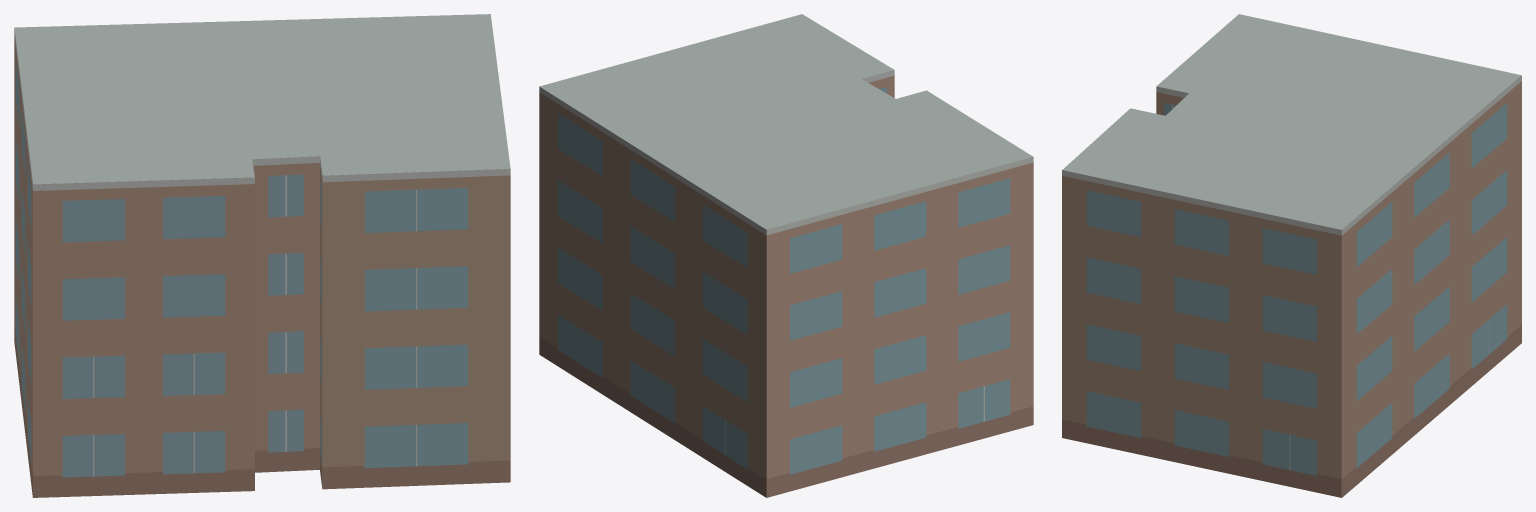
The model's file is survey-upis-32478052.glb.
3 renders of one model, left to right at view 1: azimuth 30°, elevation 25°; view 2: azimuth 150°, elevation 25°; view 3: azimuth 270°, elevation 25°, orthographic. The views are drawn at different scales.
Visible parts, largest first — view 1: survey-upis-32478052.tmp; view 2: survey-upis-32478052.tmp; view 3: survey-upis-32478052.tmp.
Part boxes in pixels (box(x1,y1,x2,y2)): survey-upis-32478052.tmp: box(14, 14, 510, 497); survey-upis-32478052.tmp: box(539, 14, 1033, 497); survey-upis-32478052.tmp: box(1062, 14, 1521, 497).
Bounding box in the file's own units: 20.15 × 11.65 × 18.13.
